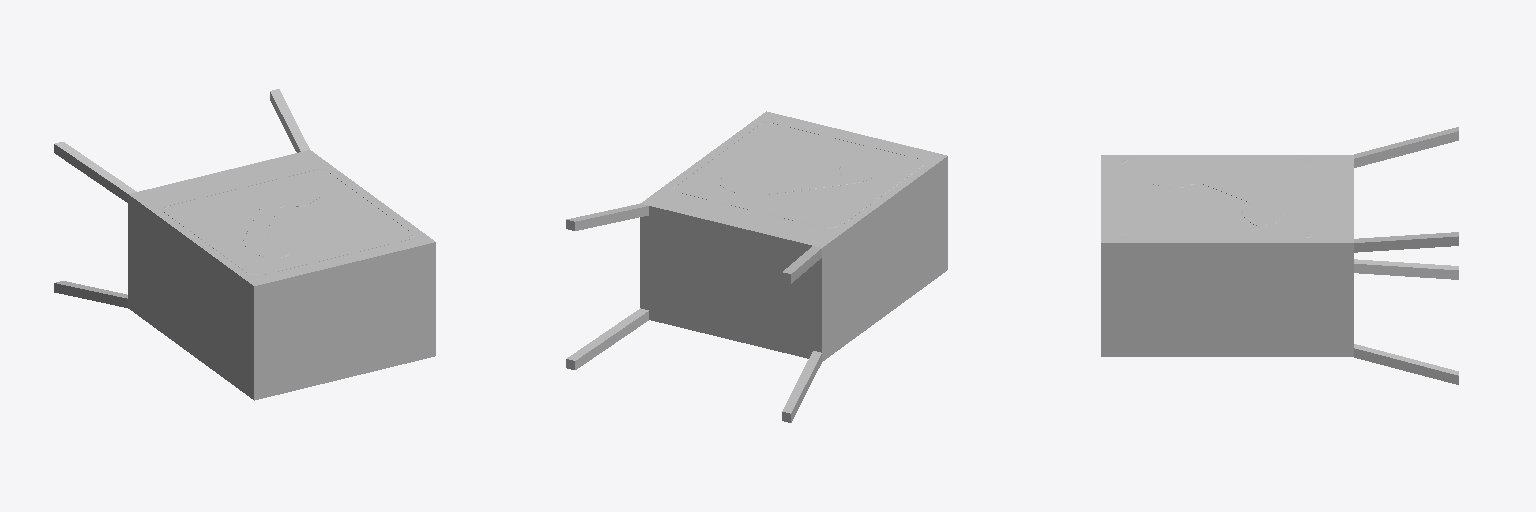
The model's file is Telekommunikationsversorgung.obj.
3 views of the same model, side by side, from view 1: azimuth 30°, elevation 25°; view 2: azimuth 150°, elevation 25°; view 3: azimuth 270°, elevation 25° (orthographic).
Visible parts, largest first — view 1: polySurface1 _JOB_Extending_and_Converting_3Dmodels_Models_Suppl; view 2: polySurface1 _JOB_Extending_and_Converting_3Dmodels_Models_Suppl; view 3: polySurface1 _JOB_Extending_and_Converting_3Dmodels_Models_Suppl.
Part boxes in pixels (x1,y1,x2,y2): polySurface1 _JOB_Extending_and_Converting_3Dmodels_Models_Suppl: (54,89,435,400); polySurface1 _JOB_Extending_and_Converting_3Dmodels_Models_Suppl: (566,111,947,422); polySurface1 _JOB_Extending_and_Converting_3Dmodels_Models_Suppl: (1101,127,1458,384).
Bounding box in the file's own units: 1.24 × 0.7817 × 1.7.